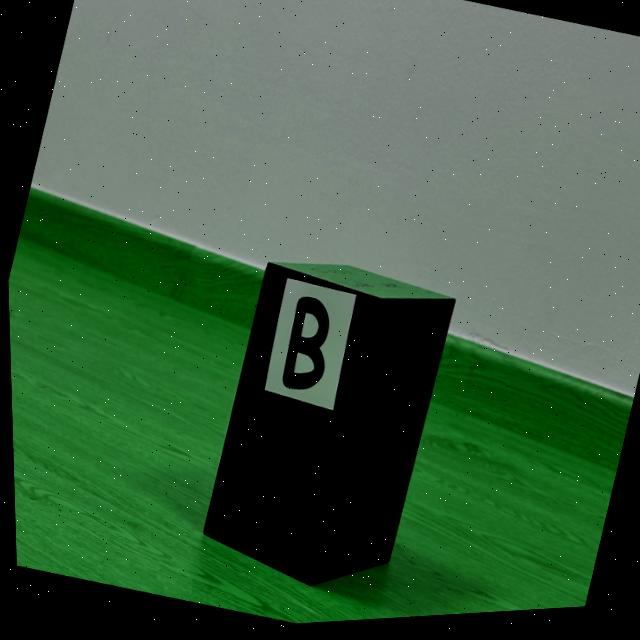B: (279, 300, 327, 393)
